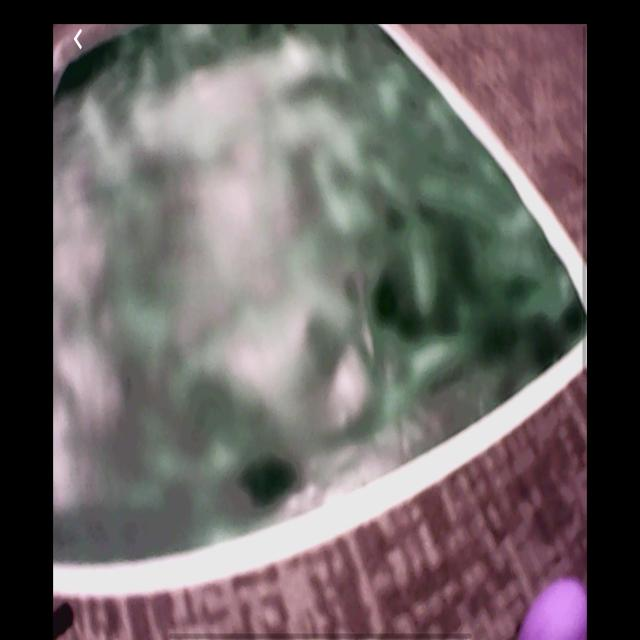ball: (517, 582, 588, 640)
